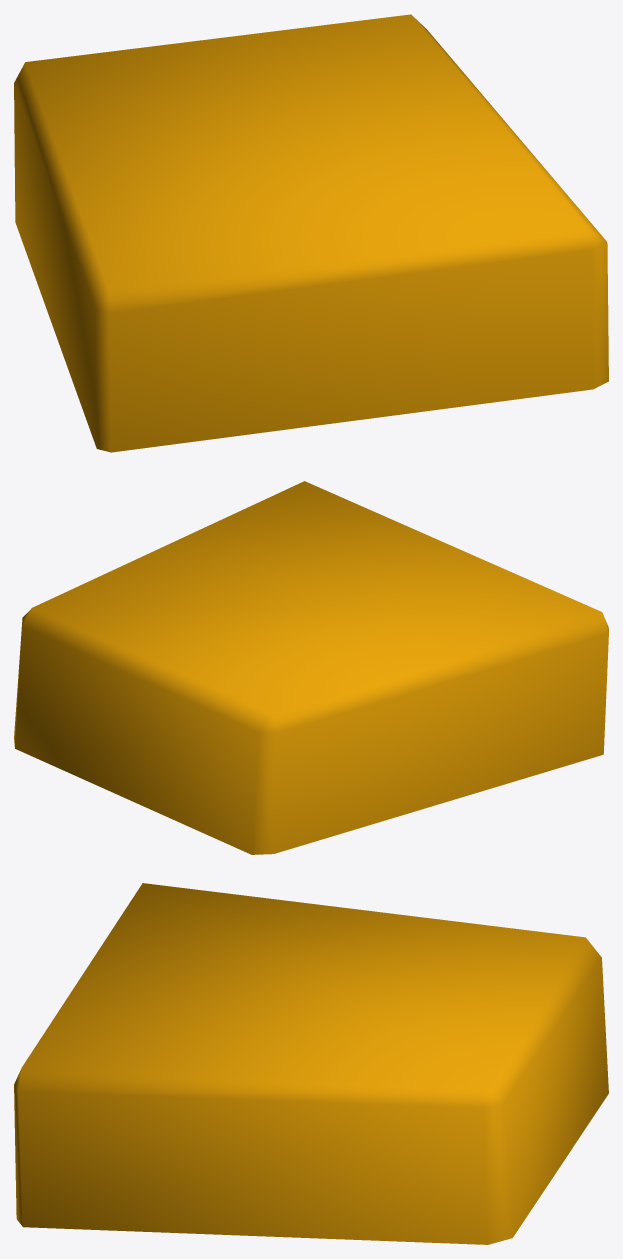
The model's file is Platform_L_9.fbx.
3 renders of one model, top to bottom at view 1: azimuth 30°, elevation 25°; view 2: azimuth 150°, elevation 25°; view 3: azimuth 270°, elevation 25°, orthographic. The views are drawn at different scales.
Visible parts, largest first — view 1: Platform_L_9; view 2: Platform_L_9; view 3: Platform_L_9.
Part boxes in pixels (x1=…): Platform_L_9: x1=14, y1=14, x2=608, y2=452; Platform_L_9: x1=14, y1=481, x2=608, y2=854; Platform_L_9: x1=14, y1=883, x2=608, y2=1244.
Size of the model in its own units: 661 by 223 by 699.
